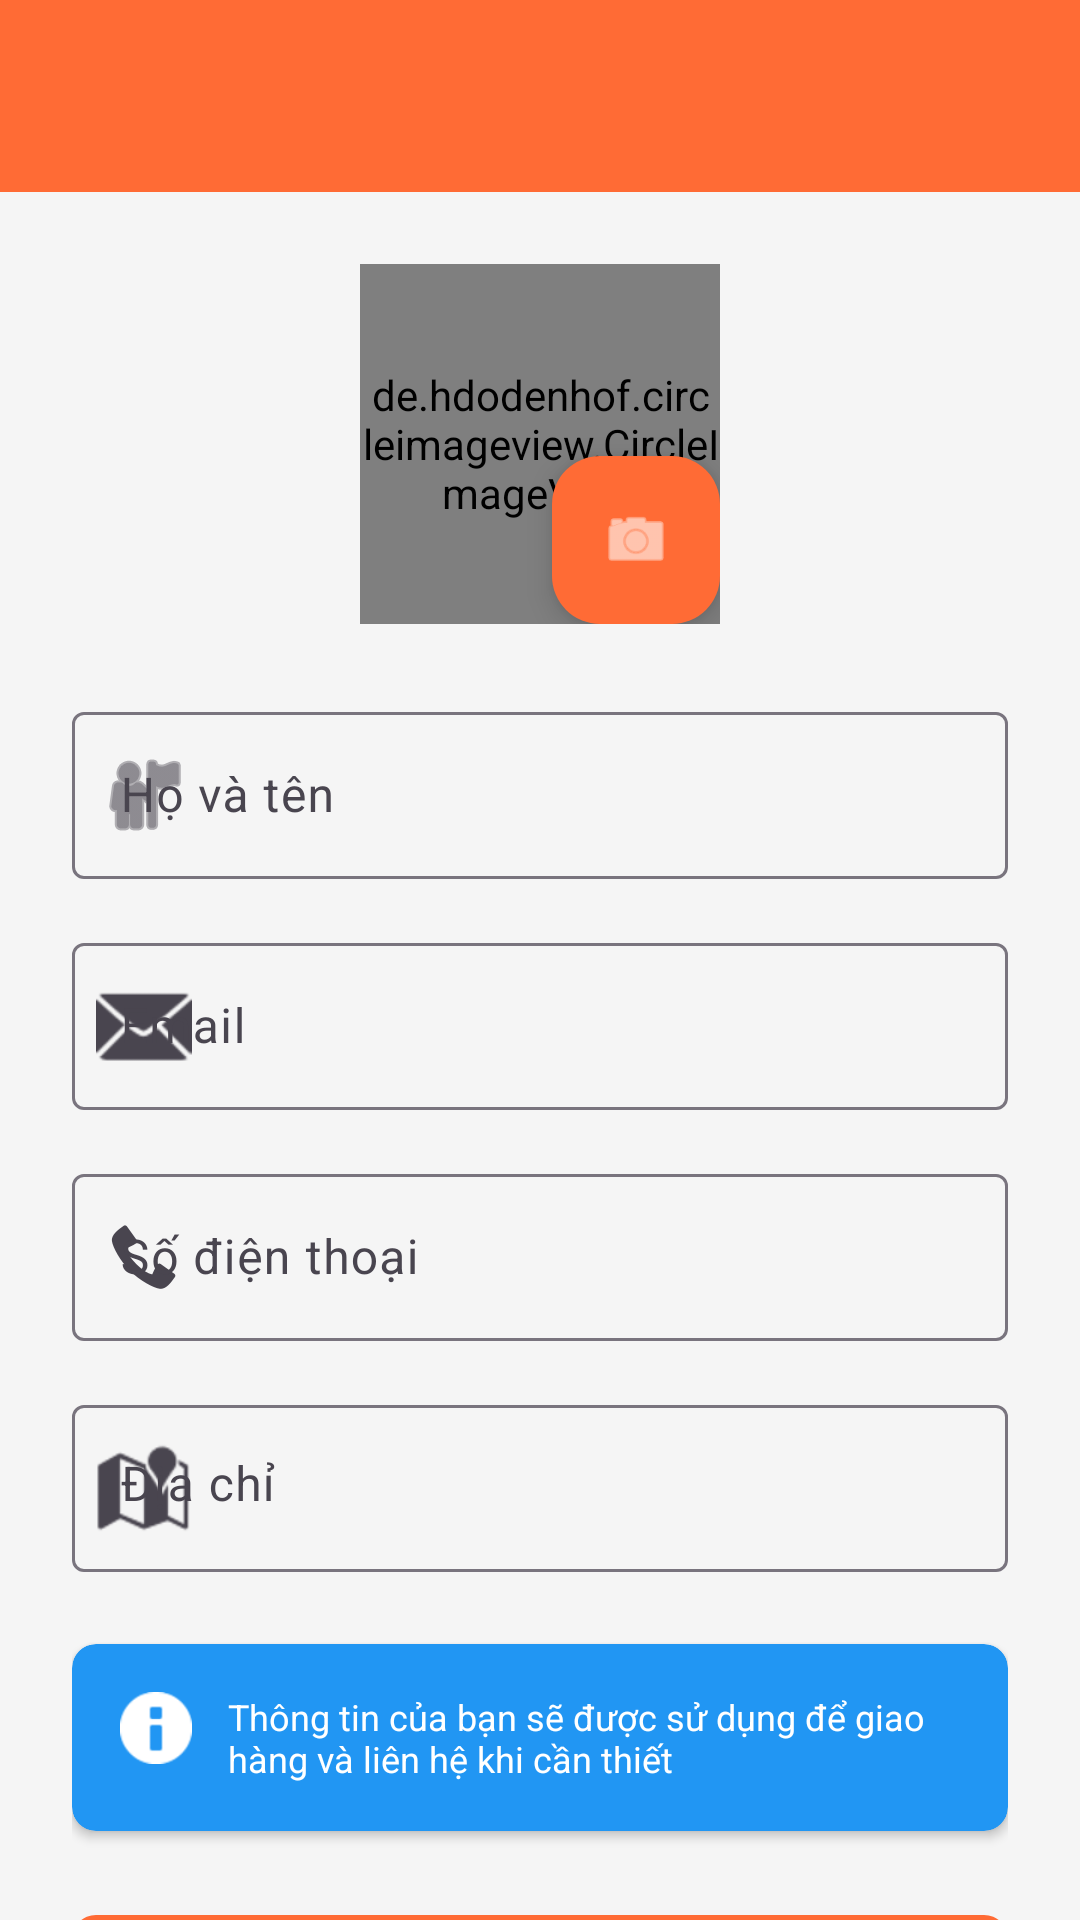

Named icons in this screenshot (1080px x 1920px) and their centers, (x,y):
camera: (636,540)
info: (156,1728)
